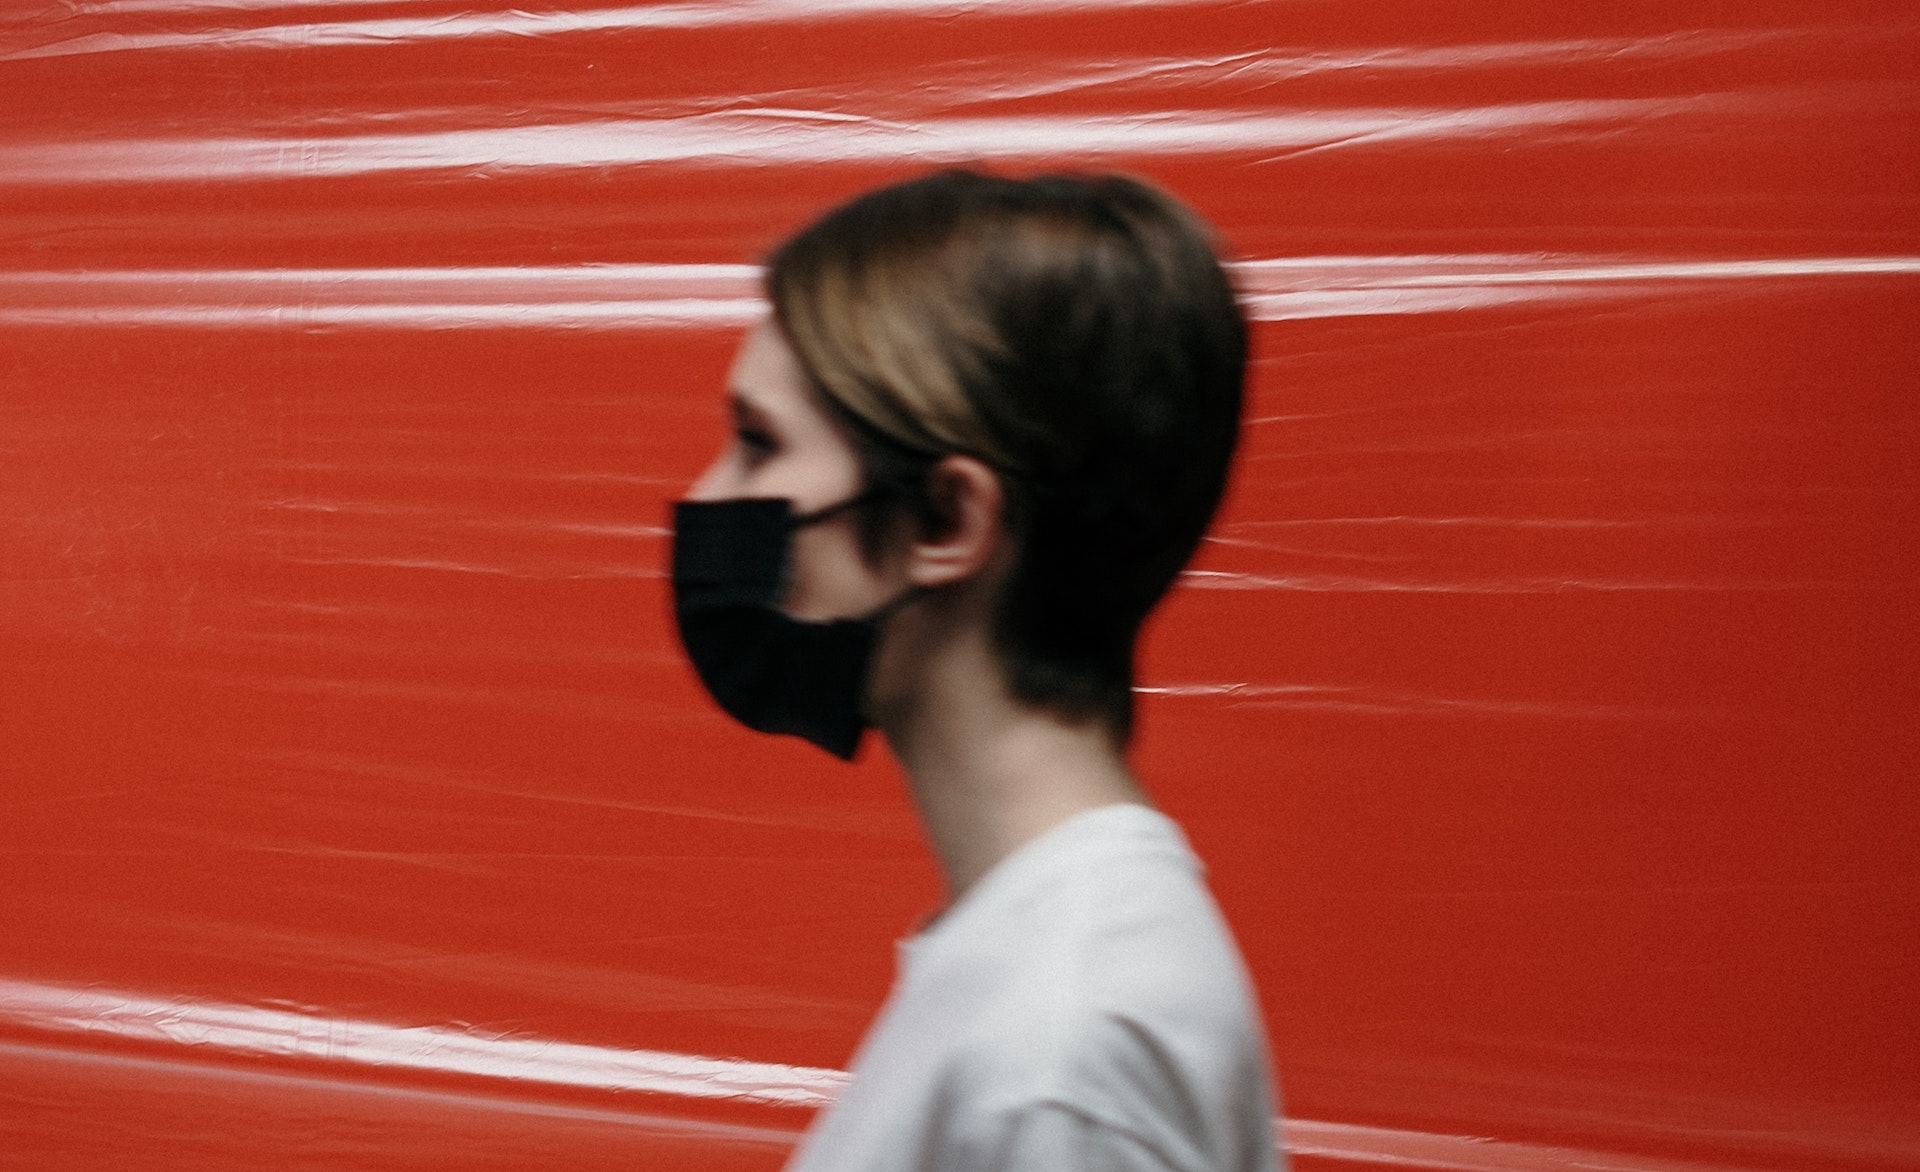with_mask: (680, 172, 1278, 872)
